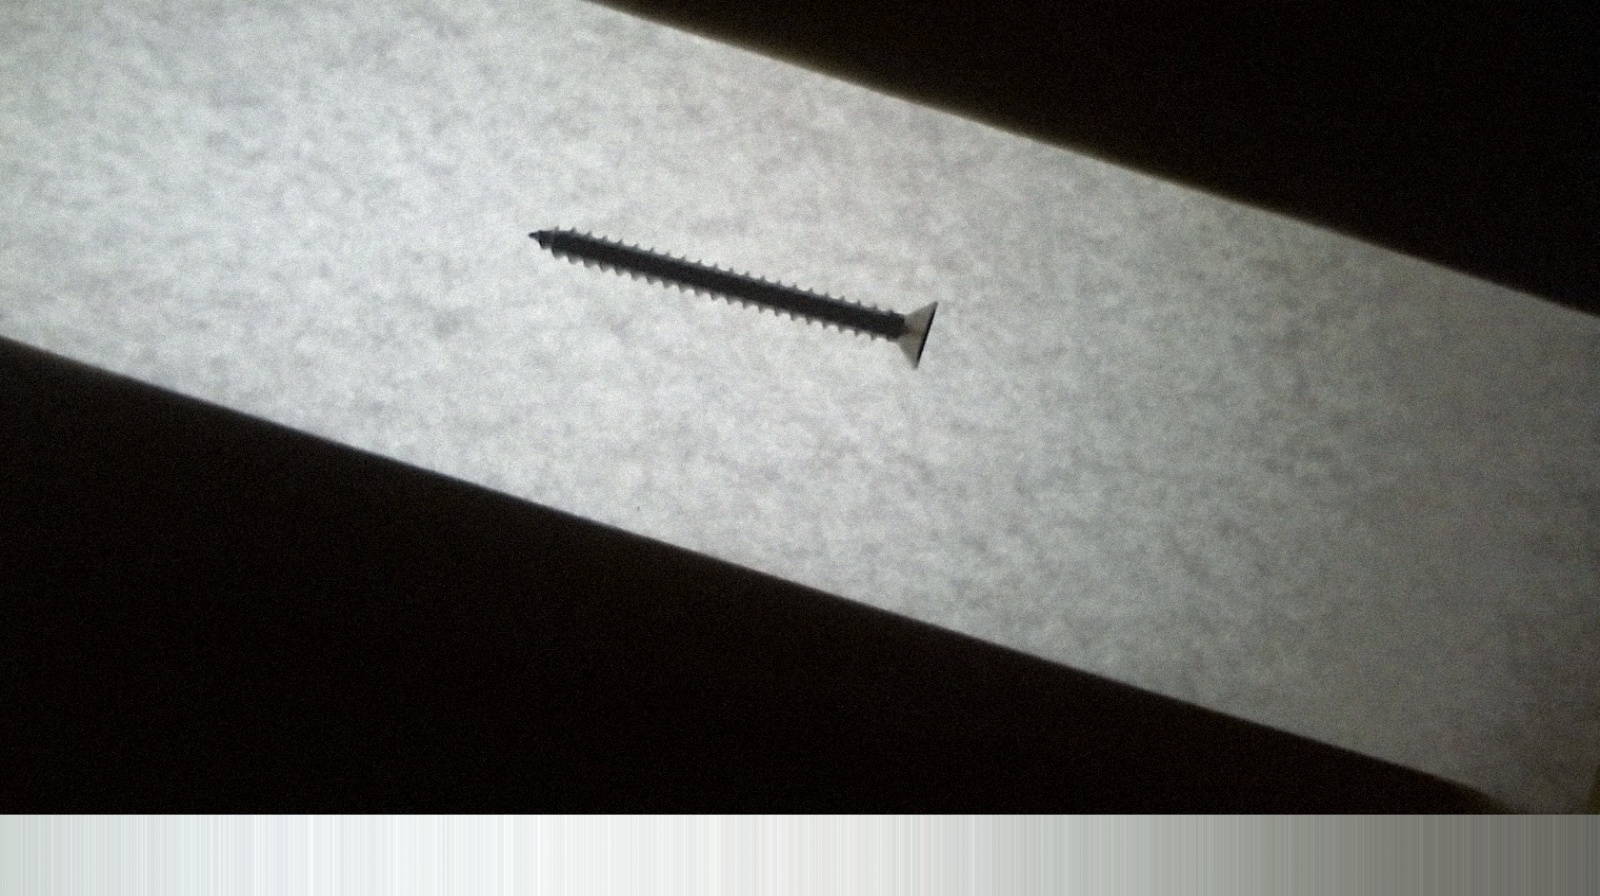S002: (515, 209, 943, 380)
